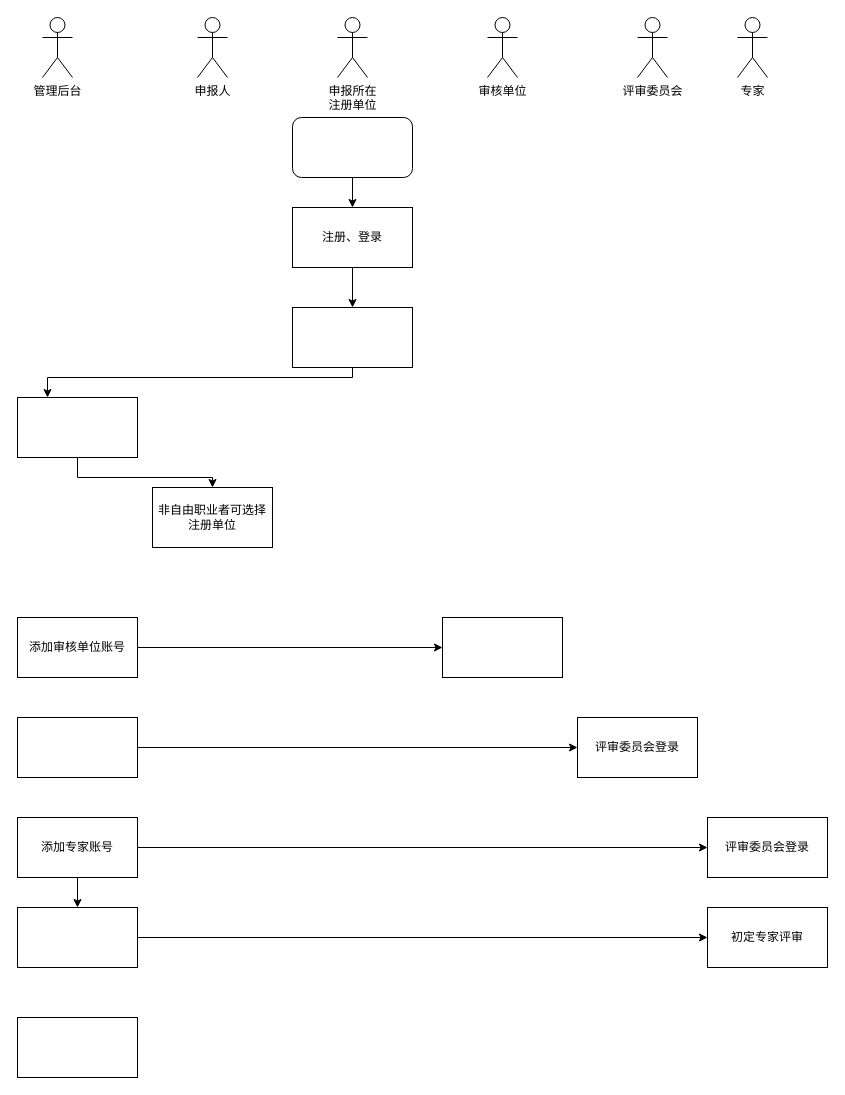
The diagram is 845 pixels wide and 1095 high, and some of its shapes have lost their labels. The centre of each missing label's shape, as x and y in pixels:
"填写认证信息并提交" belongs at point (352, 337).
"审核单位登录" belongs at point (502, 647).
"开始" belongs at point (352, 147).
"注册单位认证审核" belongs at point (77, 427).
"添加评审委员会账号" belongs at point (77, 747).
"配置专家组、抽取专家" belongs at point (77, 937).
"配置管理员、门户信息" belongs at point (77, 1047).
